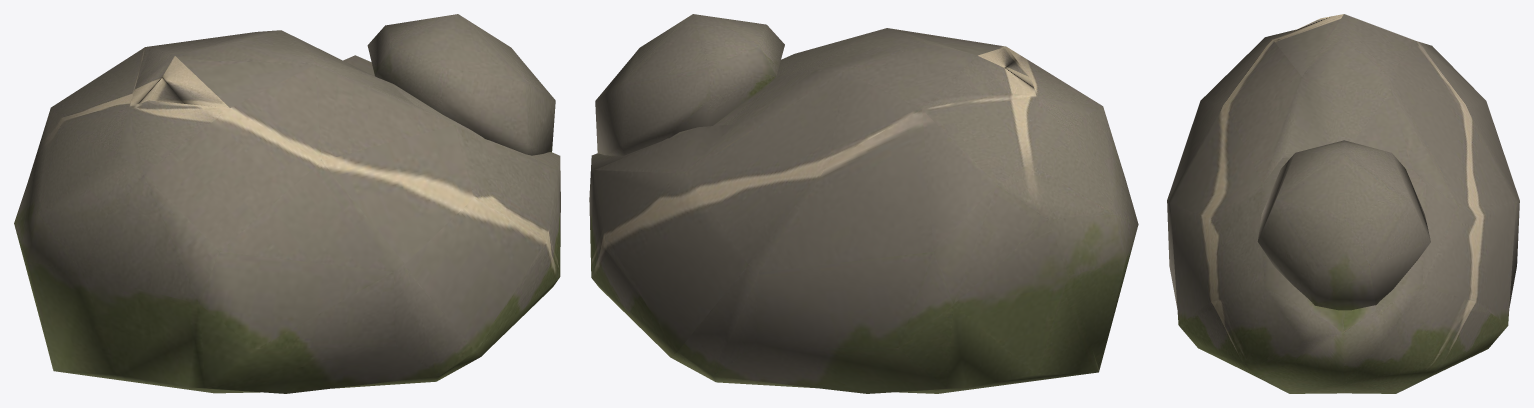
The model's file is AW-ROCK-001-v0.2.glb.
3 renders of one model, left to right at view 1: azimuth 30°, elevation 25°; view 2: azimuth 150°, elevation 25°; view 3: azimuth 270°, elevation 25°, orthographic. The views are drawn at different scales.
Parts seen in each view (by area): view 1: AW-ROCK-001_meter_ground_pivot; view 2: AW-ROCK-001_meter_ground_pivot; view 3: AW-ROCK-001_meter_ground_pivot.
Boxes of the visible parts, <box> form: AW-ROCK-001_meter_ground_pivot: <box>14,14,560,393</box>; AW-ROCK-001_meter_ground_pivot: <box>589,14,1138,393</box>; AW-ROCK-001_meter_ground_pivot: <box>1167,14,1519,393</box>.
Size of the model in its own units: 1.45 by 0.85 by 0.999.
Materials: 1 (1 with a texture image).
